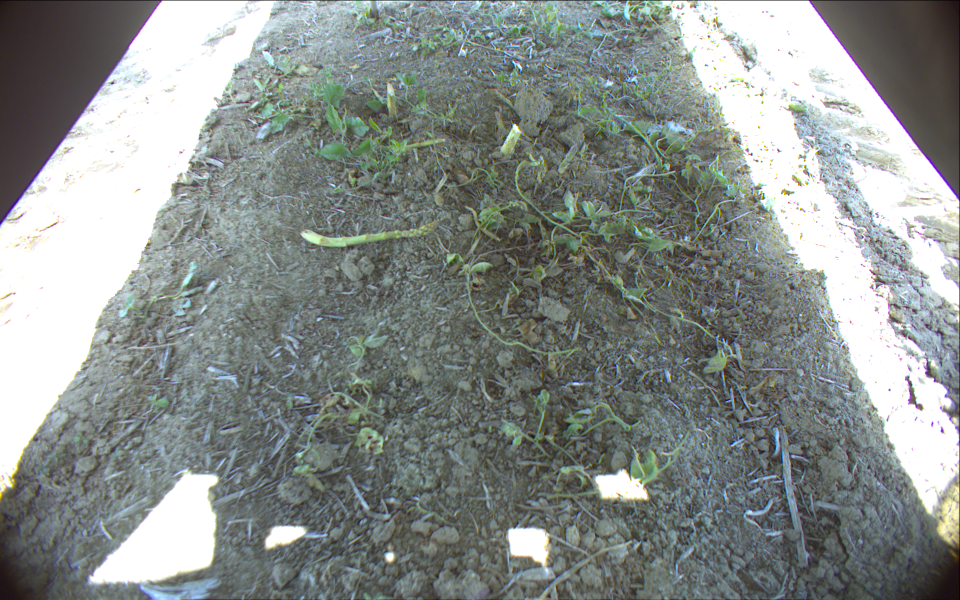aspa: (302, 219, 441, 248), (501, 123, 521, 157), (385, 81, 396, 123)
